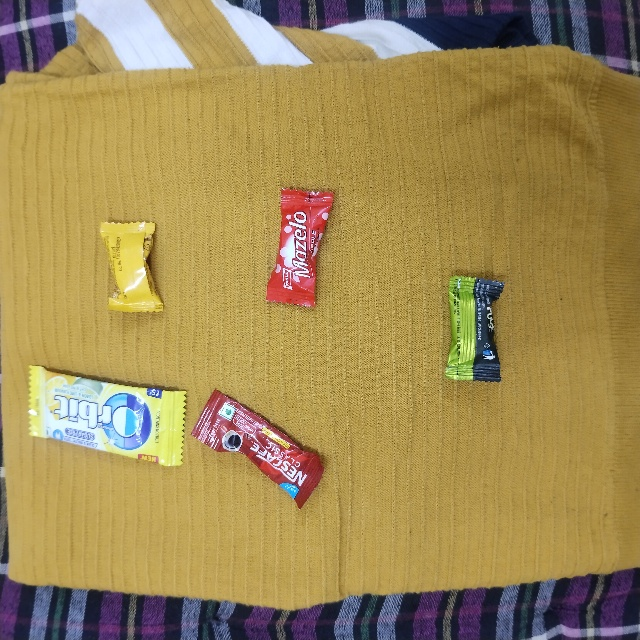Alpenlibe Creamfills: (100, 220, 161, 316)
Mazelo: (288, 182, 336, 308)
Nescafe Coffee: (209, 392, 344, 446)
Orbit: (29, 362, 193, 438)
Pulse: (449, 272, 504, 381)
